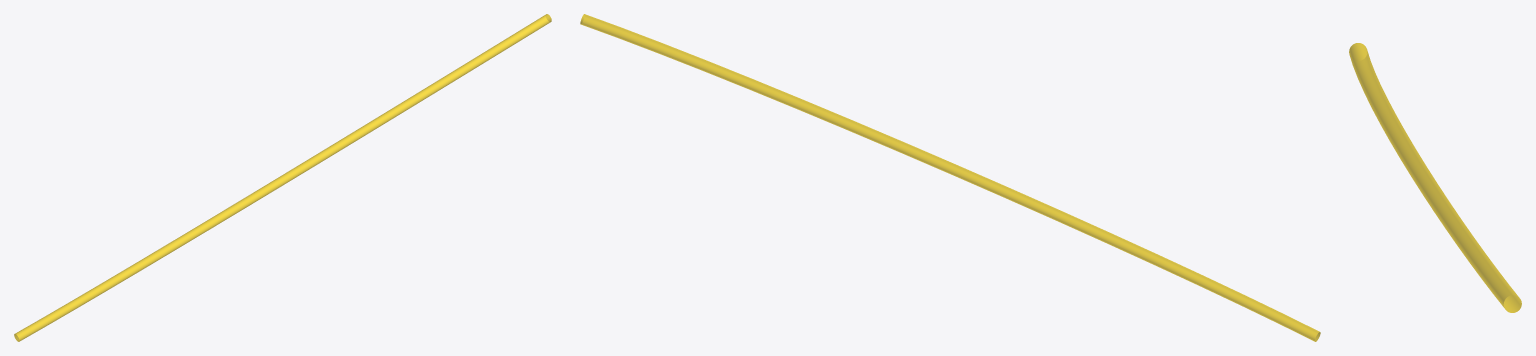
Rendered from Event_31209032_track_10.fbx.
3 renders of one model, left to right at view 1: azimuth 30°, elevation 25°; view 2: azimuth 150°, elevation 25°; view 3: azimuth 270°, elevation 25°, orthographic. The views are drawn at different scales.
Visible parts, largest first — view 1: Model; view 2: Model; view 3: Model.
Part boxes in pixels (left/top/right/bottom): Model: left=14, top=14, right=551, bottom=341; Model: left=580, top=14, right=1320, bottom=341; Model: left=1349, top=43, right=1521, bottom=312.
Size of the model in its own units: 2.87 by 0.7671 by 0.3745.
